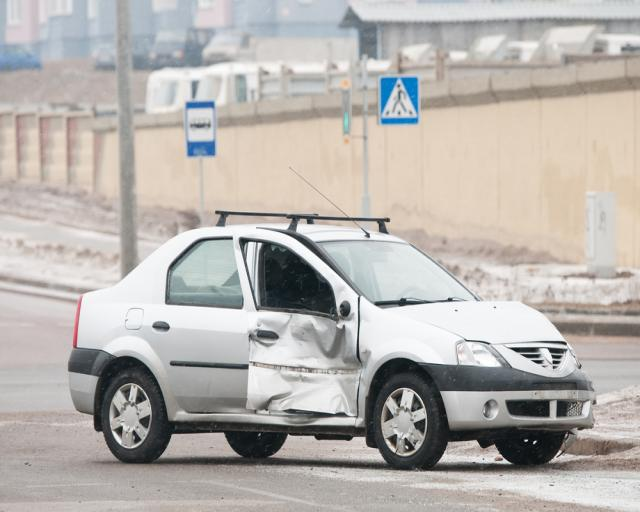dent: (249, 314, 364, 416)
